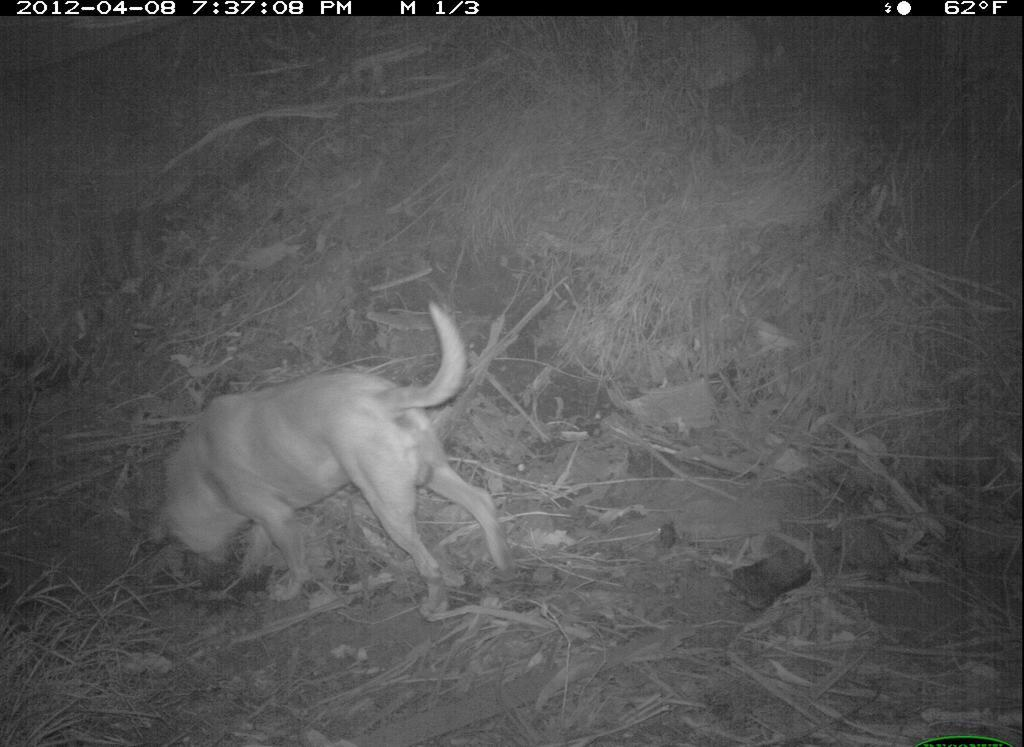dog: (144, 296, 520, 625)
